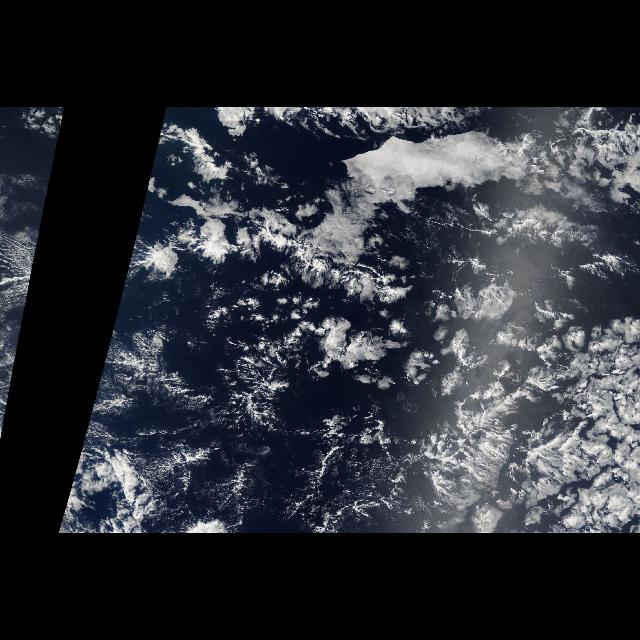Fish: (99, 304, 309, 454)
Flower: (154, 111, 638, 529)
